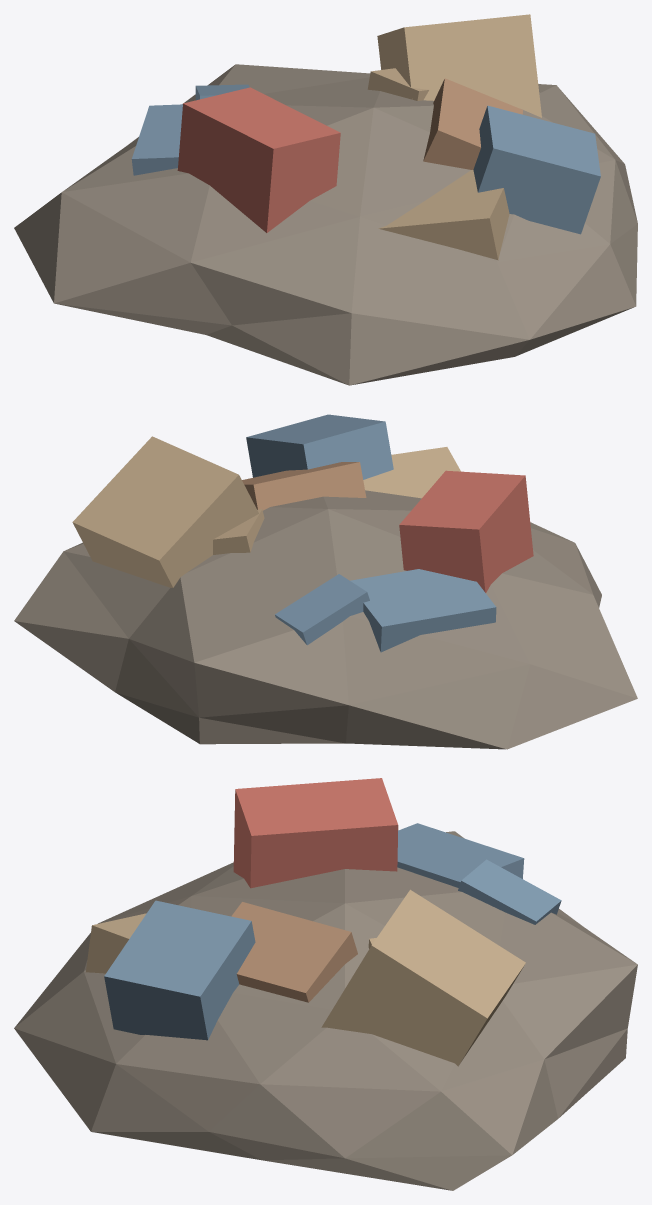
File: node_junk.glb
3 renders of one model, top to bottom at view 1: azimuth 30°, elevation 25°; view 2: azimuth 150°, elevation 25°; view 3: azimuth 270°, elevation 25°, orthographic. The views are drawn at different scales.
Parts seen in each view (by area): view 1: node_junk; view 2: node_junk; view 3: node_junk.
Boxes of the visible parts, <box> form: node_junk: <box>14,14,637,385</box>; node_junk: <box>14,414,637,749</box>; node_junk: <box>14,778,637,1190</box>.
Bounding box in the file's own units: 2.15 × 0.6723 × 1.9.
